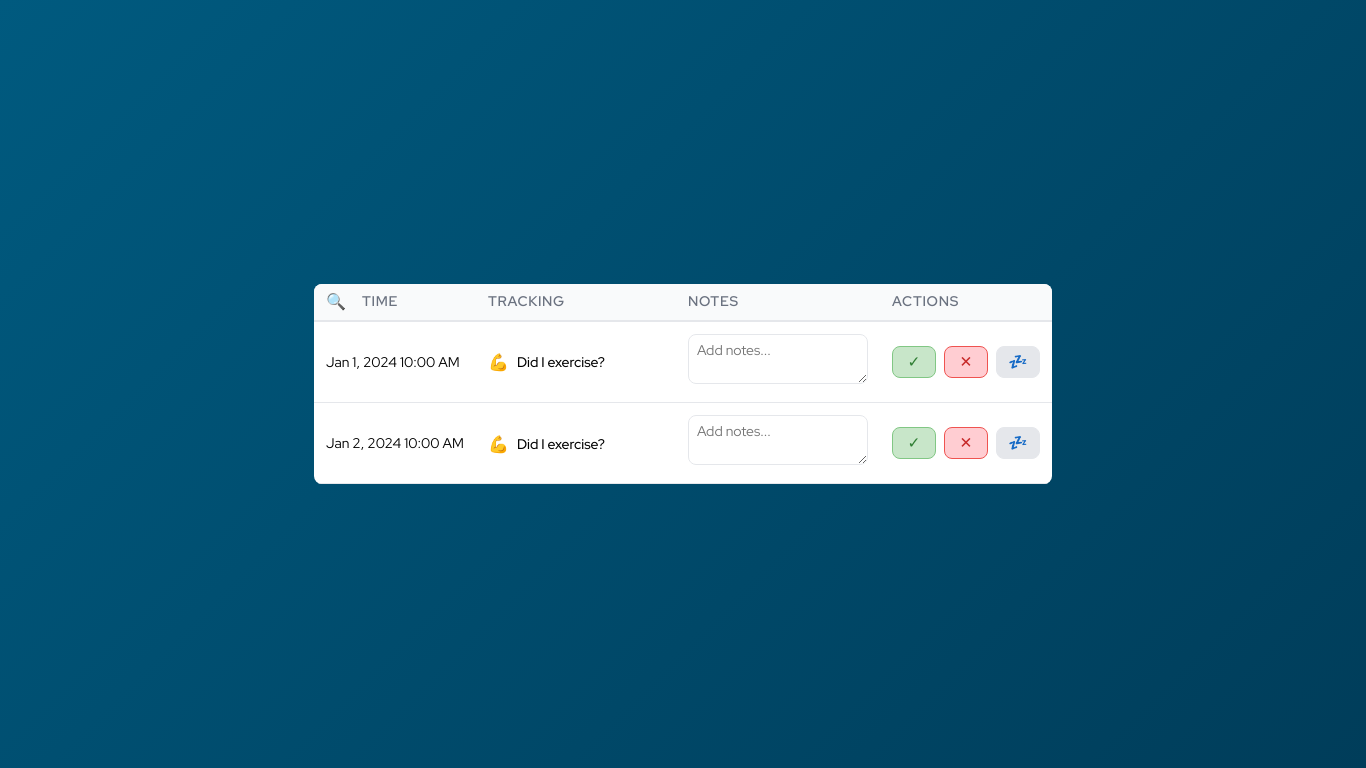
Test case: RemindersList › should toggle sort direction
Note: Click time header to sort ascending
Click the button with aria-label "sort by time" at [413, 302], box [362,290,464,313]
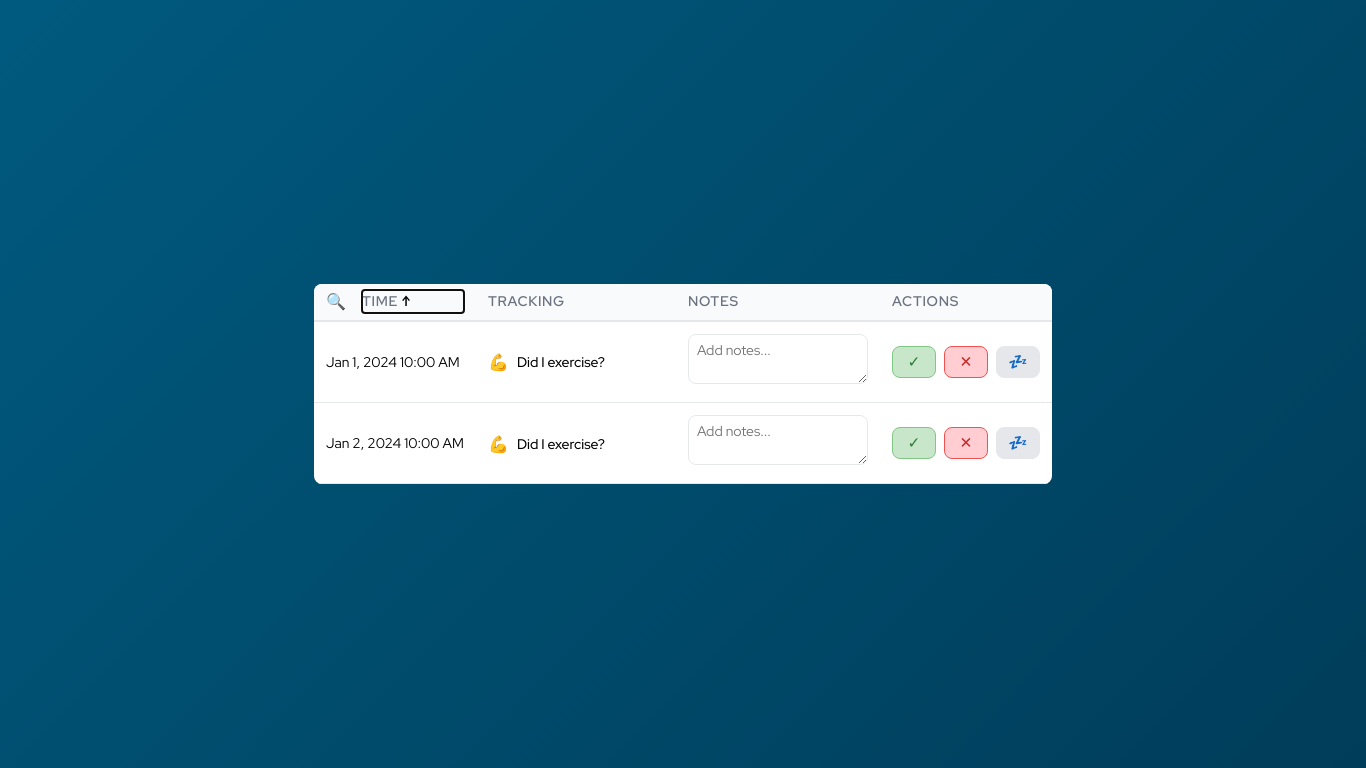
Expected: the text "↑" is shown, [402,290,411,313]
Note: Click again to sort descending
Click the button with aria-label "sort by time" at [413, 302], box [362,290,464,313]
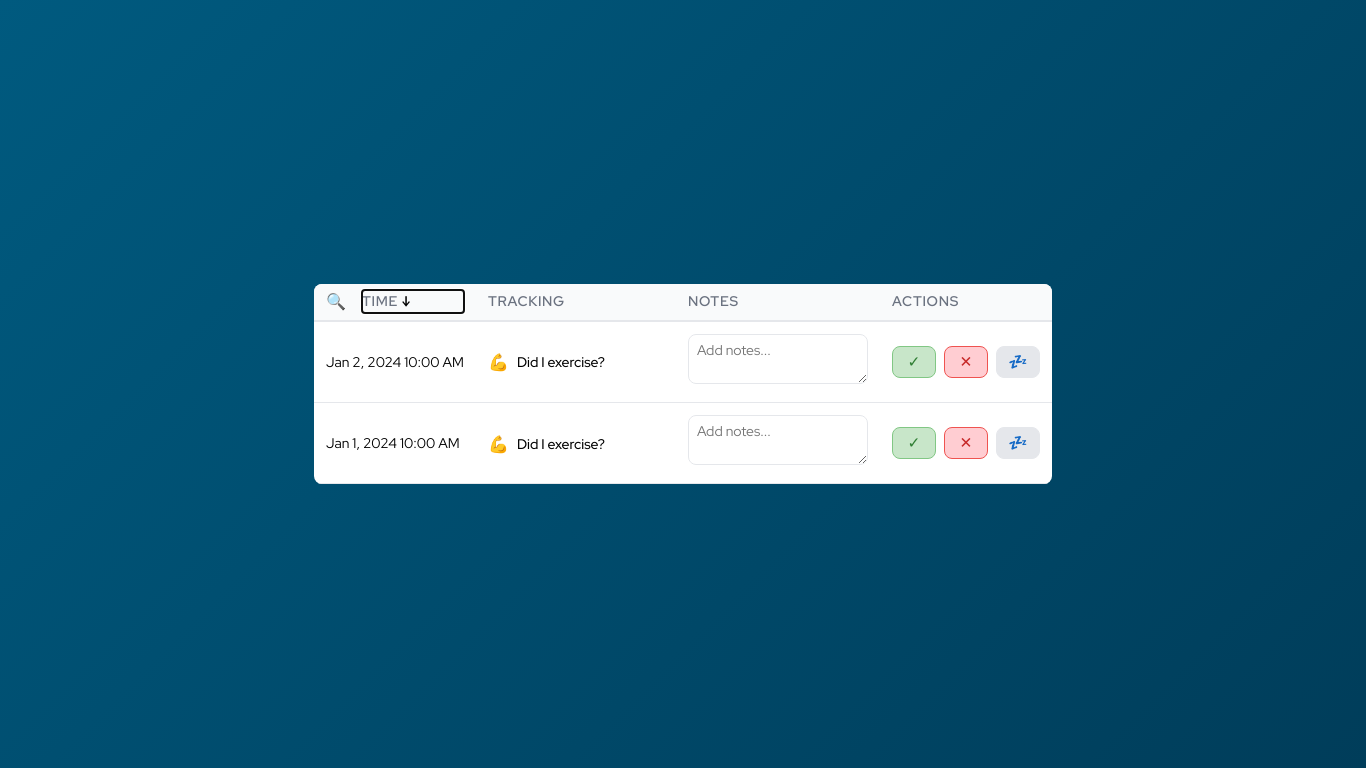
Expected: the text "↓" is shown, [402,290,411,313]
Note: Click again to remove sort
Click the button with aria-label "sort by time" at [413, 302], box [362,290,464,313]
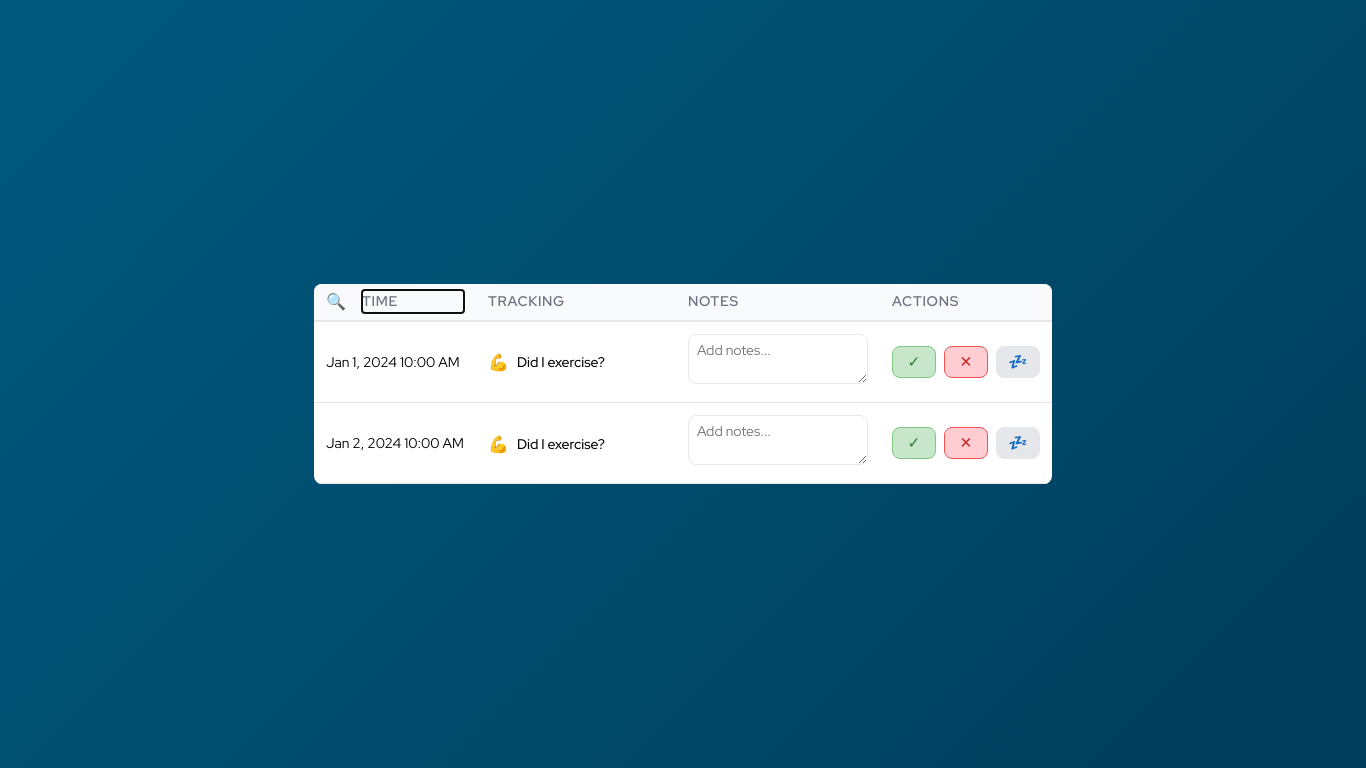
Expected: the text "↑" is not shown
Expected: the text "↓" is gone
